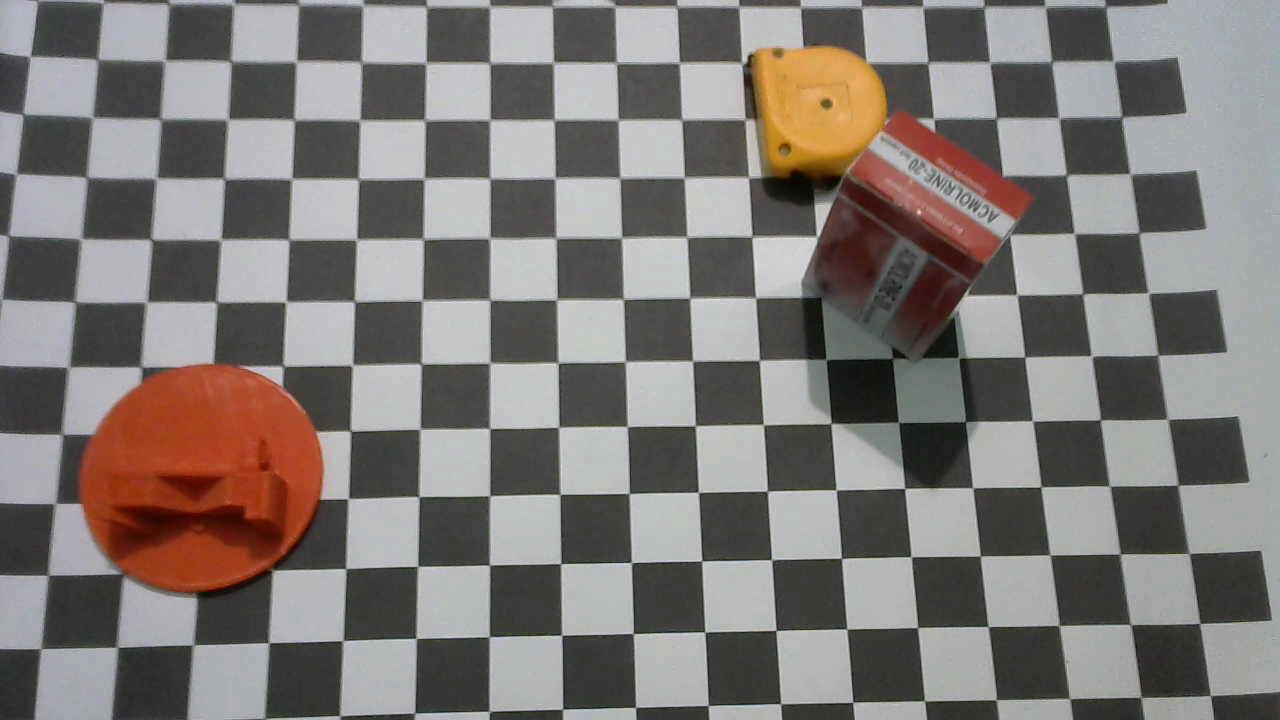blue: (740, 43, 887, 181)
green: (78, 362, 325, 594)
red: (799, 111, 1034, 368)
